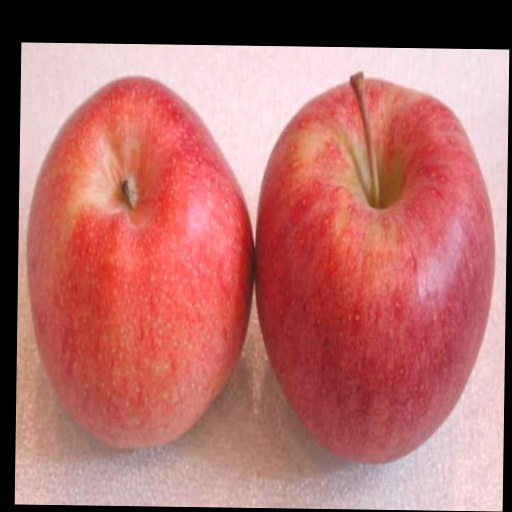fruit: (256, 75, 494, 462), (27, 78, 253, 448)
